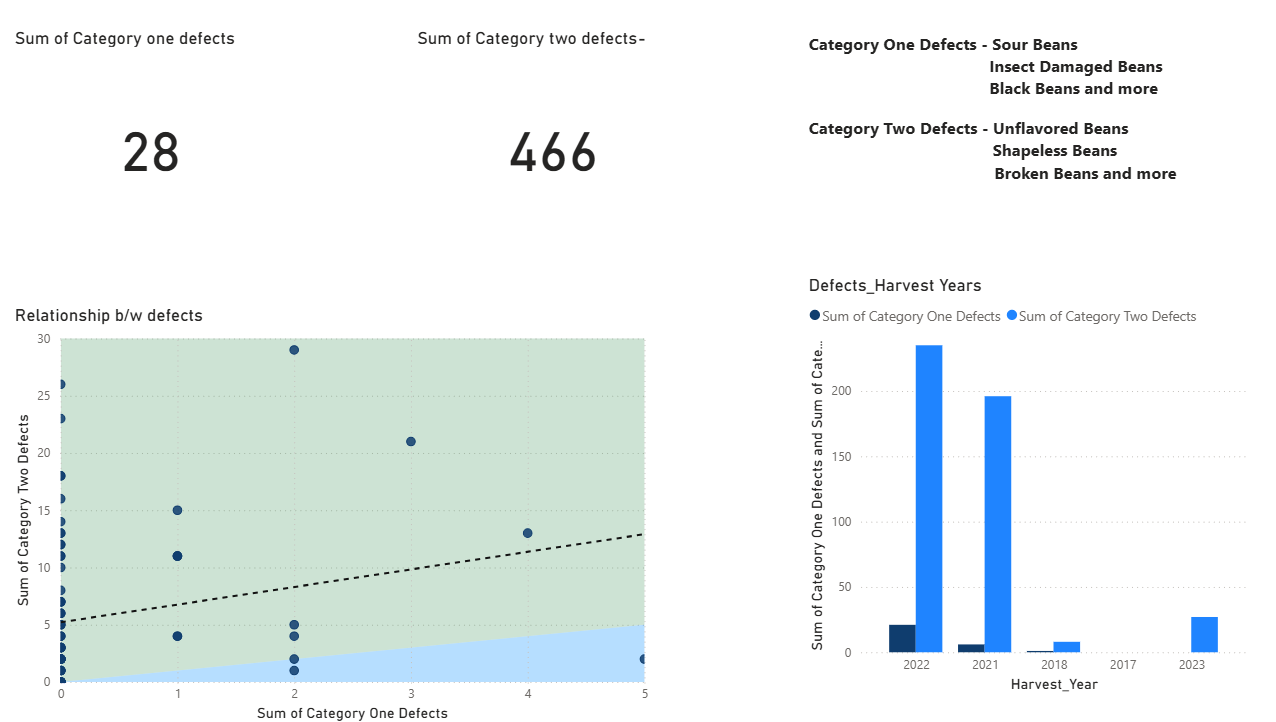

The dashboard page shown, as its layout file describes it:
{"tool":"powerbi","page":{"name":"Defects","canvas":[1280,720],"ordinal":4},"visuals":[{"type":"card","title":"Sum of Category one defects","fields":{"Values":["Sum(df_arabica_clean.Category One Defects)"]},"box":[9.6,35.7,275.8,209.9],"z":0},{"type":"card","title":"Sum of Category two defects- ","fields":{"Values":["Sum(df_arabica_clean.Category Two Defects)"]},"box":[403.4,35.7,275.8,209.9],"z":1000},{"type":"scatterChart","title":"Relationship b/w defects","fields":{"Category":["df_arabica_clean.Total Cup Points"],"X":["Sum(df_arabica_clean.Category One Defects)"],"Y":["Sum(df_arabica_clean.Category Two Defects)"]},"box":[9.6,307.4,629.8,413],"z":2000},{"type":"clusteredColumnChart","title":"Defects_Harvest Years","fields":{"Category":["df_arabica_clean.Harvest_Year"],"Y":["Sum(df_arabica_clean.Category One Defects)","Sum(df_arabica_clean.Category Two Defects)"]},"box":[786.3,277.2,439.1,413],"z":3000},{"type":"textbox","box":[786,36,439,210],"z":4000}]}

Visuals, with their boxes in screenshot pixels (x1, y1, x2, y2), scaled from the page's 1280x720 canvas onto the 1276x722 screenshot:
"Sum of Category one defects" card: rect(10, 36, 285, 246)
"Sum of Category two defects- " card: rect(402, 36, 677, 246)
"Relationship b/w defects" scatterChart: rect(10, 308, 637, 721)
"Defects_Harvest Years" clusteredColumnChart: rect(784, 278, 1222, 692)
textbox: rect(784, 36, 1221, 247)
